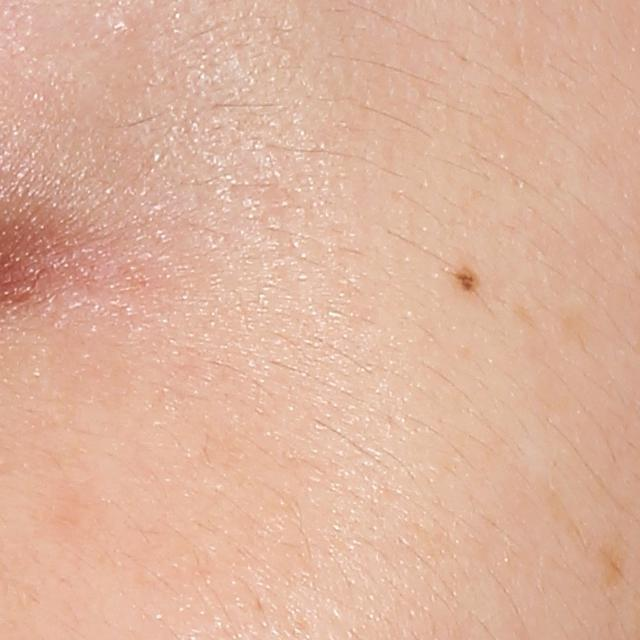comedo: (112, 16, 136, 38)
melasma: (594, 537, 628, 594)
nevus: (458, 261, 480, 290)
